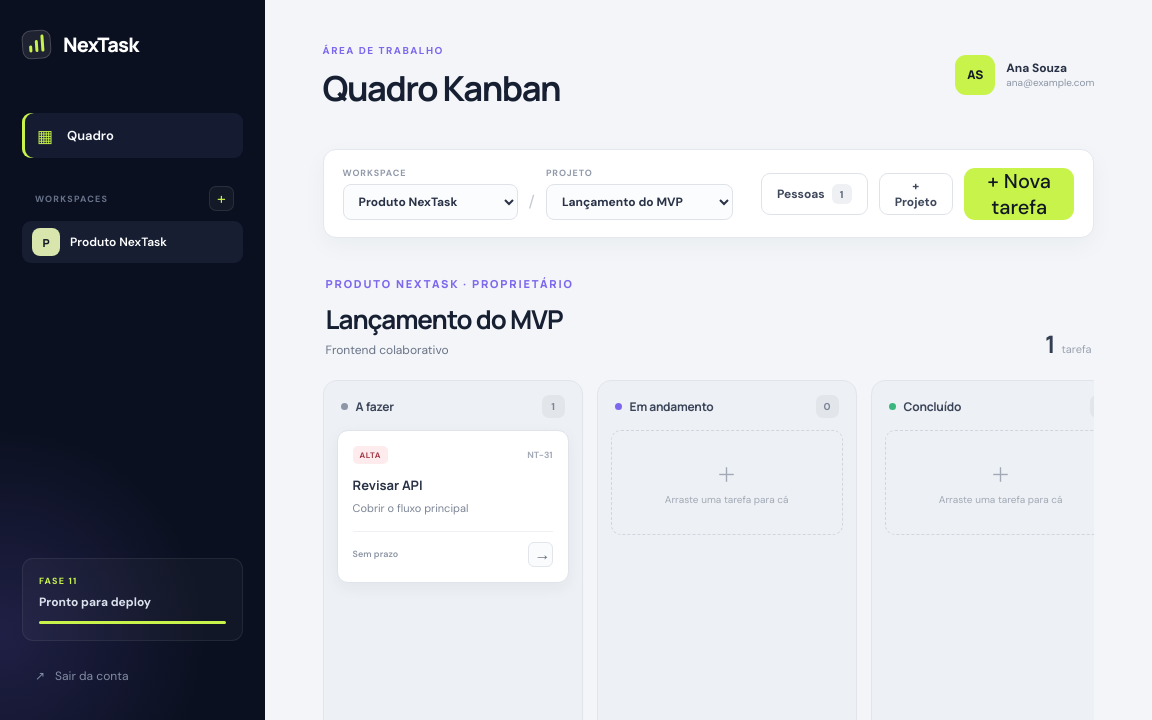
Test case: NexTask frontend › allows a workspace owner to add a member
Click the button "Pessoas 1" at (814, 194), box 761,173 -> 868,215
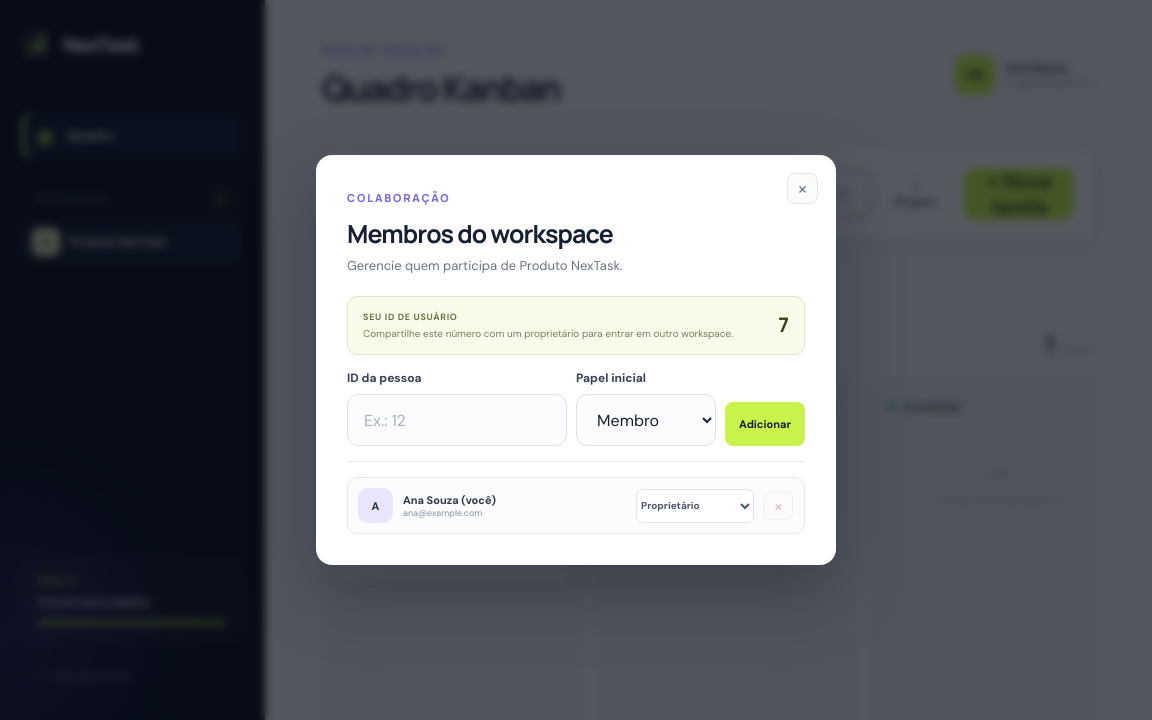
Type "8" into the number field labelled "ID da pessoa" at (457, 420), box 347,394 -> 567,446
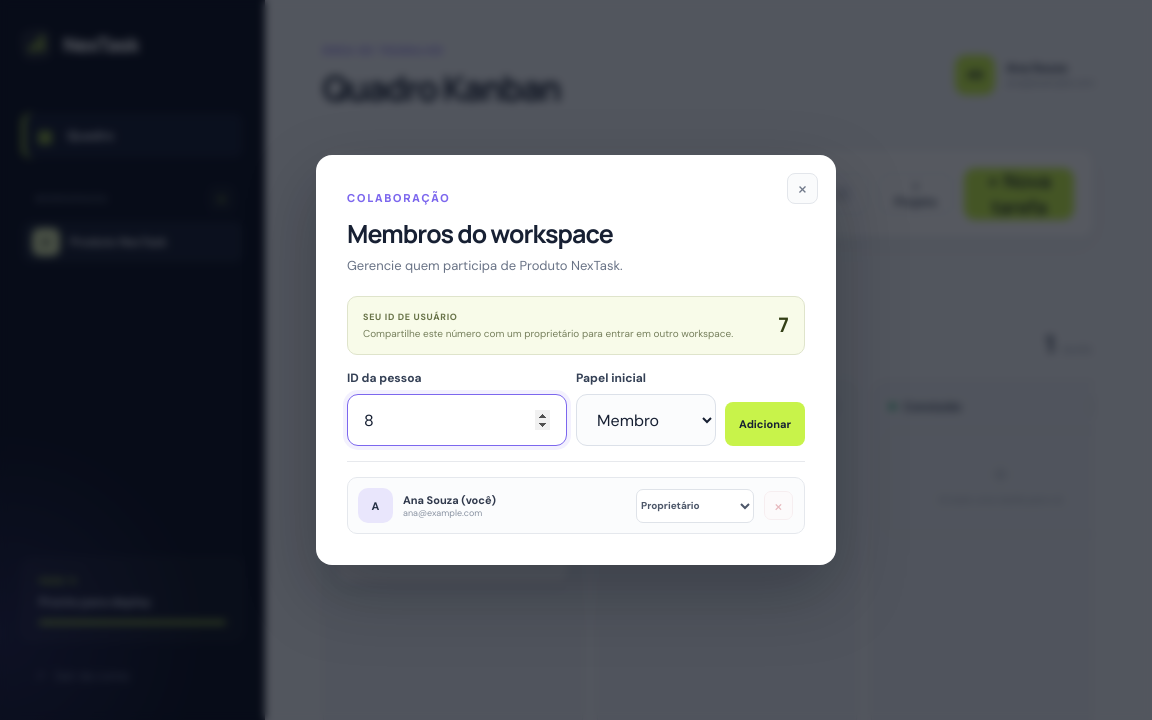
Click the button "Adicionar" at (765, 424), box 725,402 -> 805,446
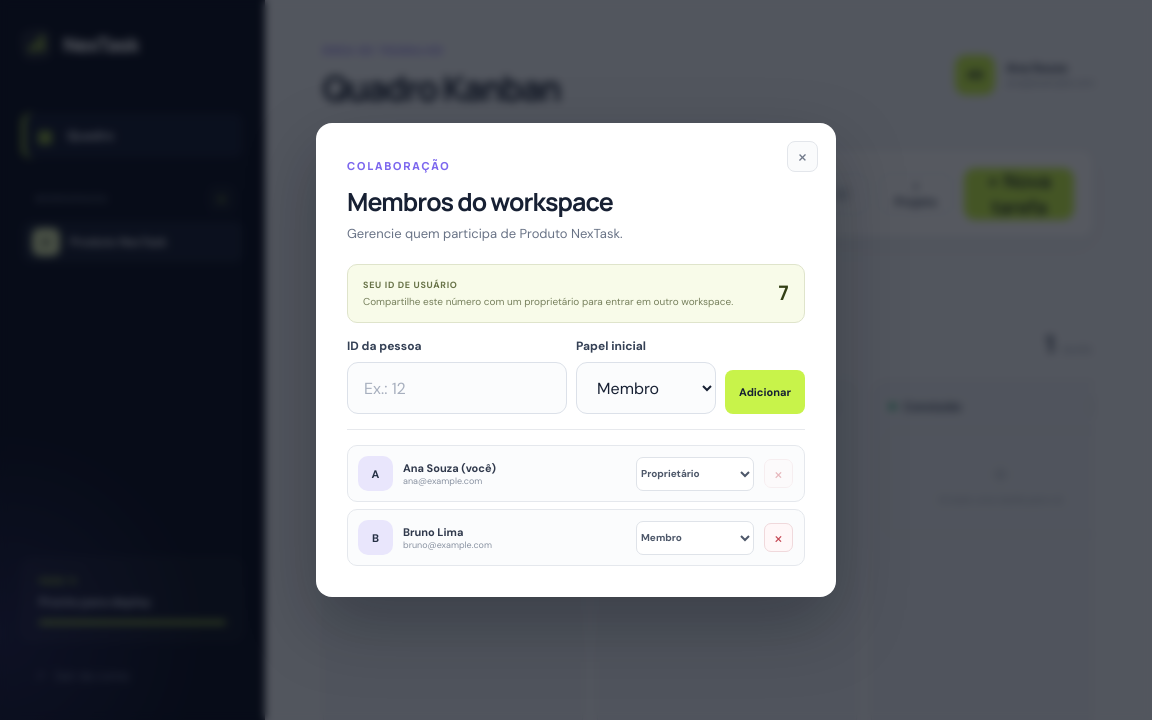
Now the text "Bruno Lima" is shown, box 403,524 -> 463,538
